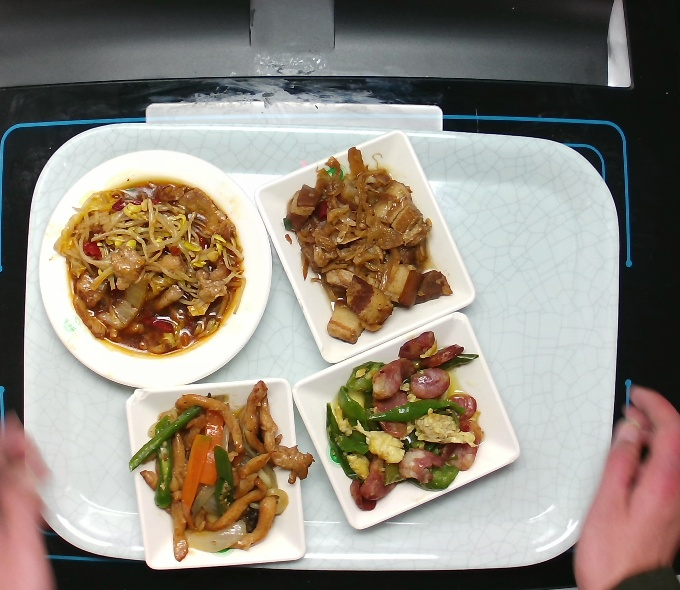wcq-HongShaoRou: (281, 144, 461, 347)
wcq-QingJiaoChaoDaChang: (323, 328, 493, 513)
wcq-QingJiaoRouSi: (127, 378, 322, 565)
wcq-ShuiZhuRouPian: (51, 173, 251, 360)
